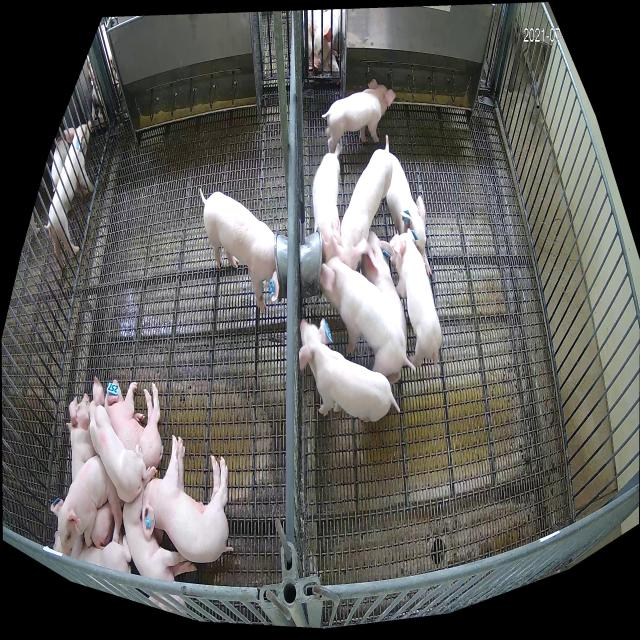pig: (142, 435, 233, 564), (122, 464, 198, 616), (300, 316, 400, 424), (321, 257, 406, 384), (204, 190, 279, 316), (76, 375, 147, 503), (332, 135, 392, 271), (65, 393, 114, 549), (389, 228, 442, 367), (51, 456, 122, 556), (386, 153, 432, 277), (361, 230, 407, 346), (104, 379, 164, 467), (326, 79, 395, 152), (312, 142, 341, 264), (68, 532, 132, 573)
